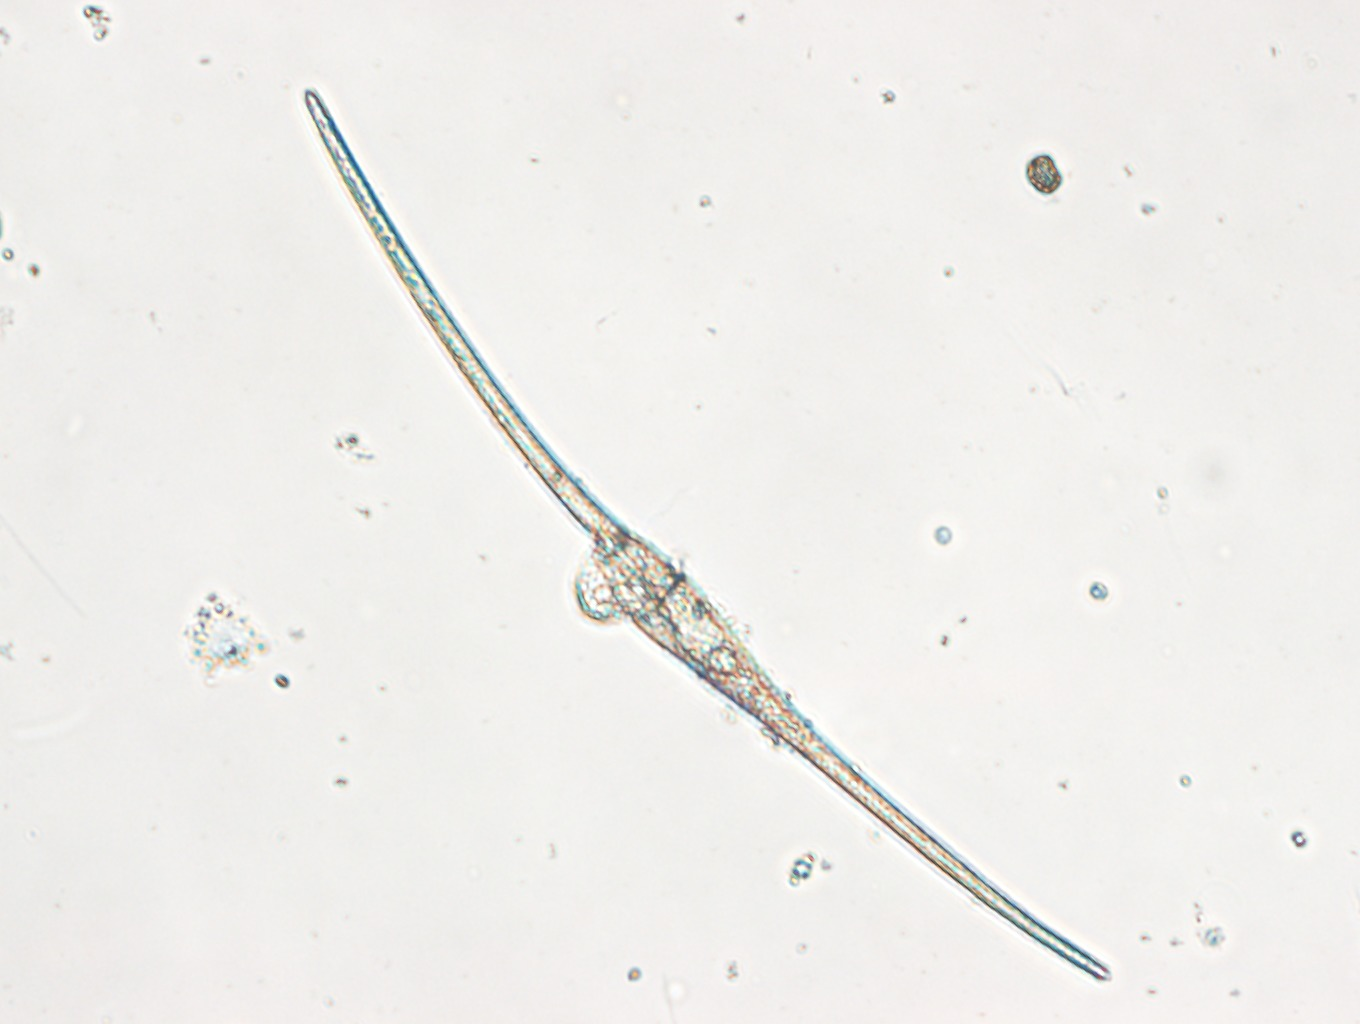ceratium fusus: (303, 89, 1110, 984)
